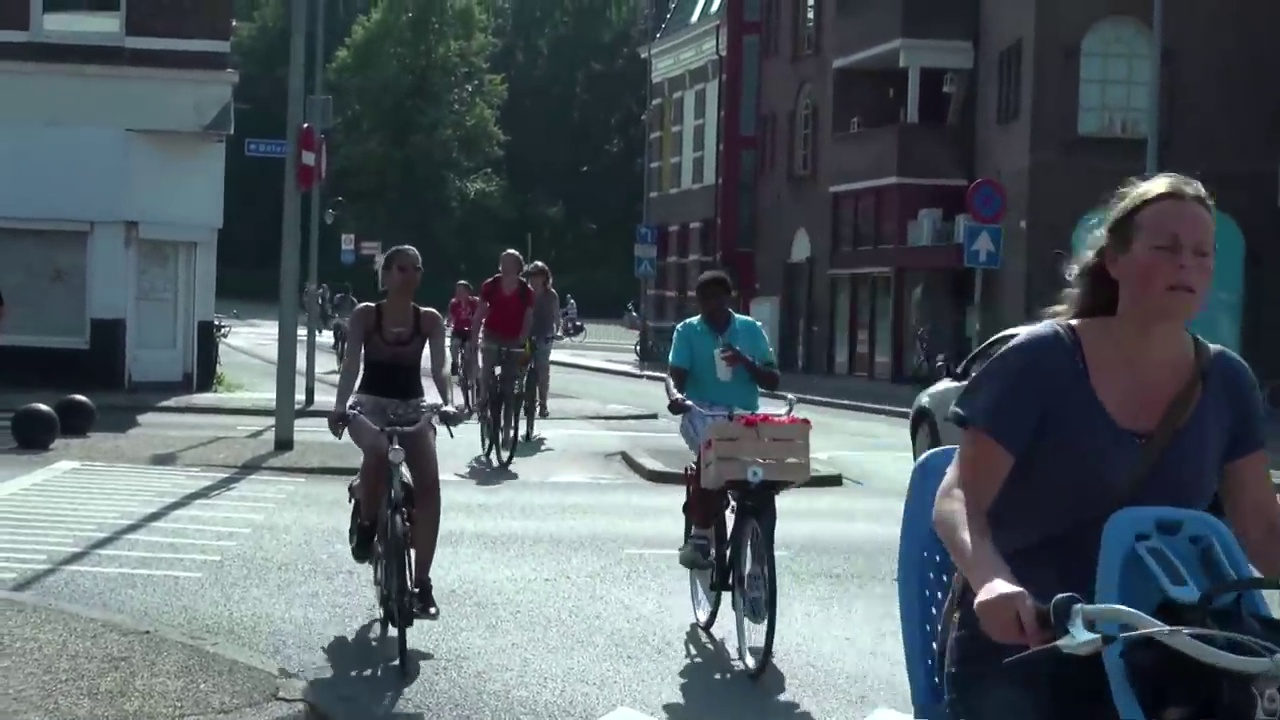cyclist_front: (659, 257, 830, 677), (335, 236, 460, 653), (475, 252, 524, 476)
